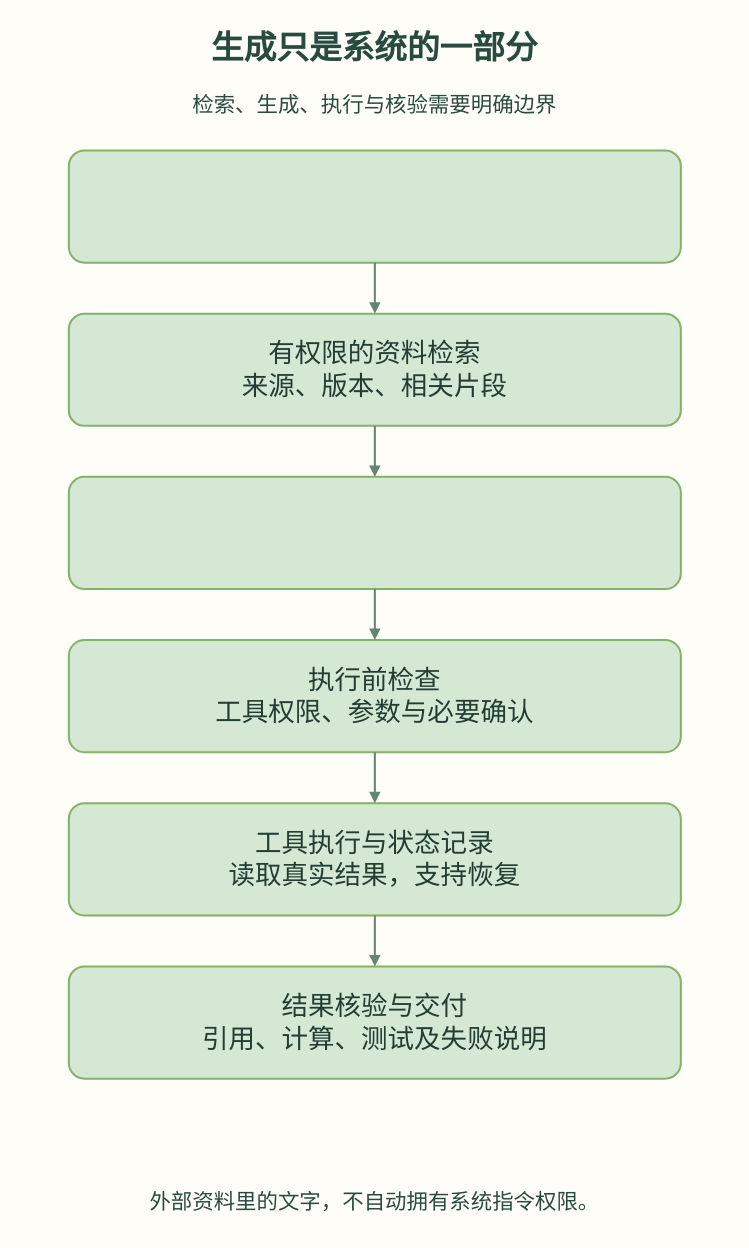
Some shapes in this 749 by 1248 pixel diagram are drawn without their labels. Here are the shapes that lost their labels. From the top down, the centre of each, then its label:
At point (374, 206): "用户问题与任务范围 确认输入、目标和预算".
At point (374, 532): "模型生成候选回答或动作 依据上下文组织结果".
